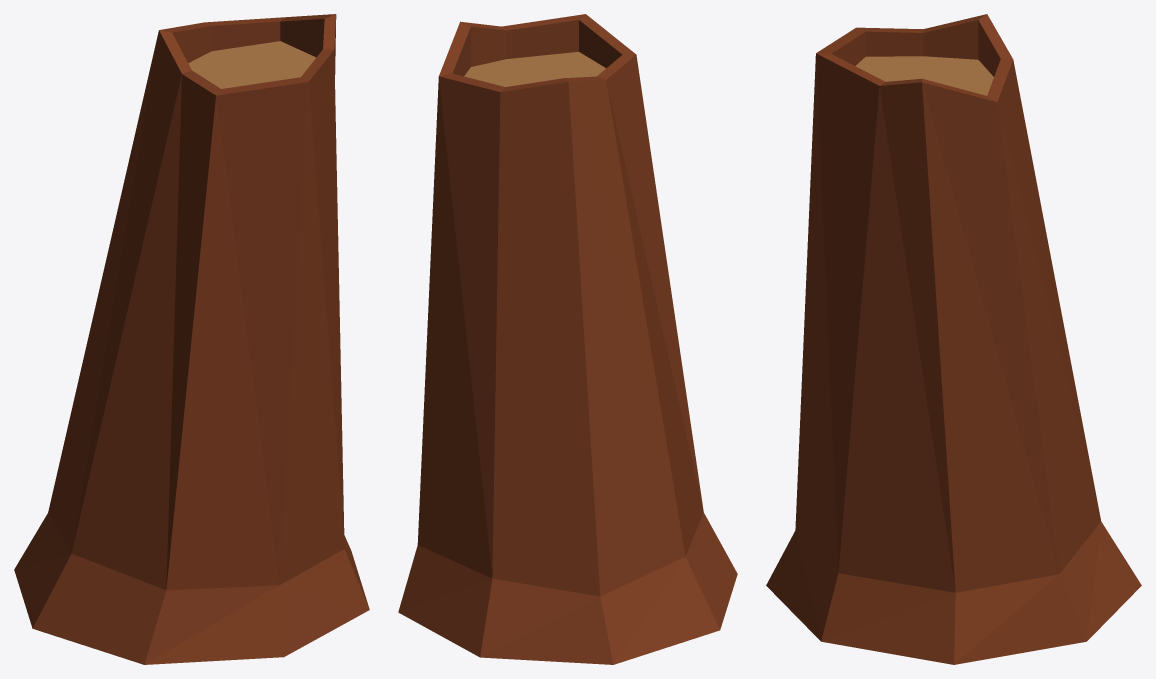
The model's file is Stump_1.fbx.
3 renders of one model, left to right at view 1: azimuth 30°, elevation 25°; view 2: azimuth 150°, elevation 25°; view 3: azimuth 270°, elevation 25°, orthographic. The views are drawn at different scales.
Visible parts, largest first — view 1: Stump.1; view 2: Stump.1; view 3: Stump.1.
Boxes of the visible parts, x1=… form: Stump.1: x1=14, y1=14, x2=369, y2=664; Stump.1: x1=398, y1=14, x2=737, y2=664; Stump.1: x1=766, y1=14, x2=1141, y2=664.
Bounding box in the file's own units: 37.1 × 61.8 × 37.1.
